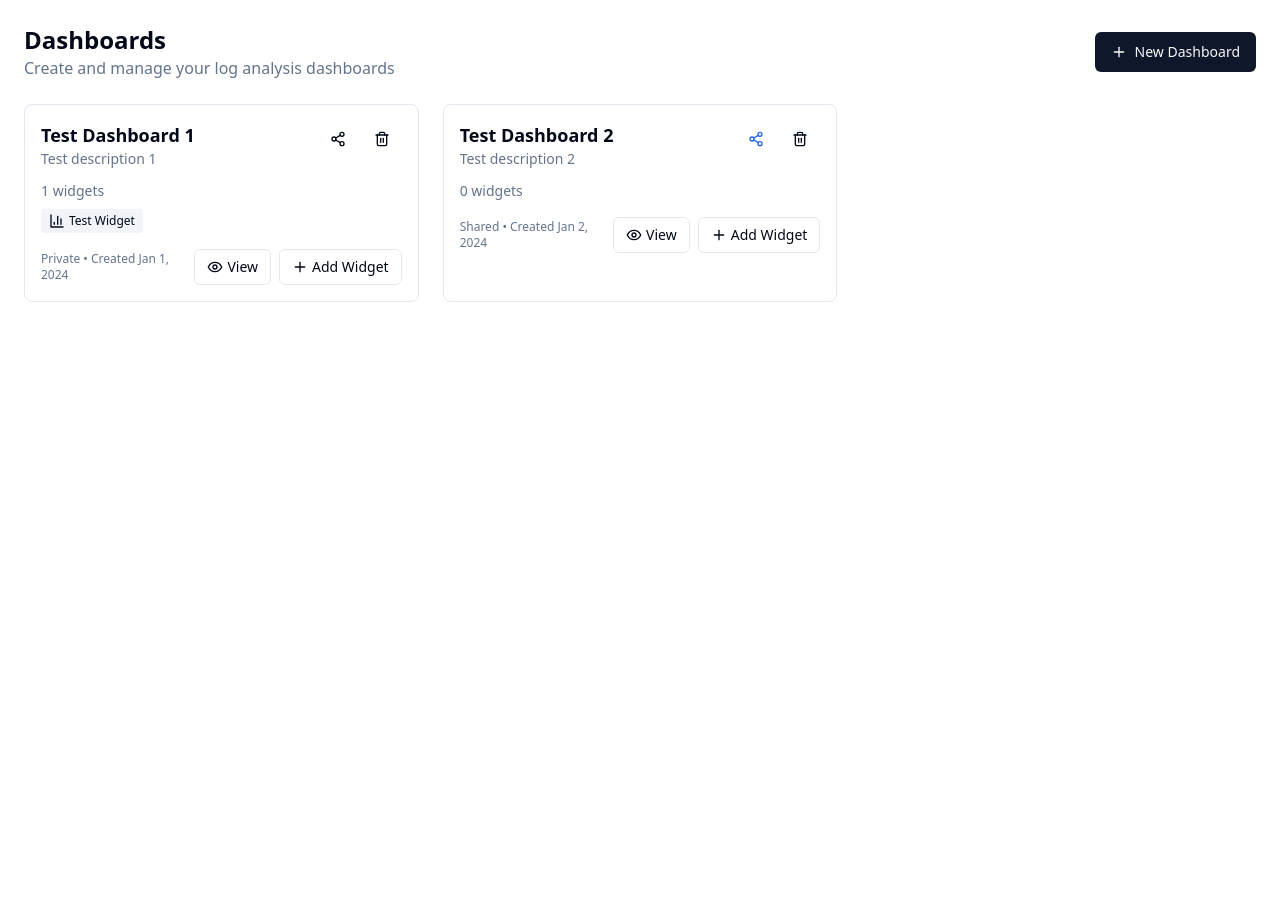
Test: DashboardsPage › opens create dashboard modal when New Dashboard button is clicked
Step 1. Click the button "New Dashboard" → (1175, 52), box [1095,32,1256,72]
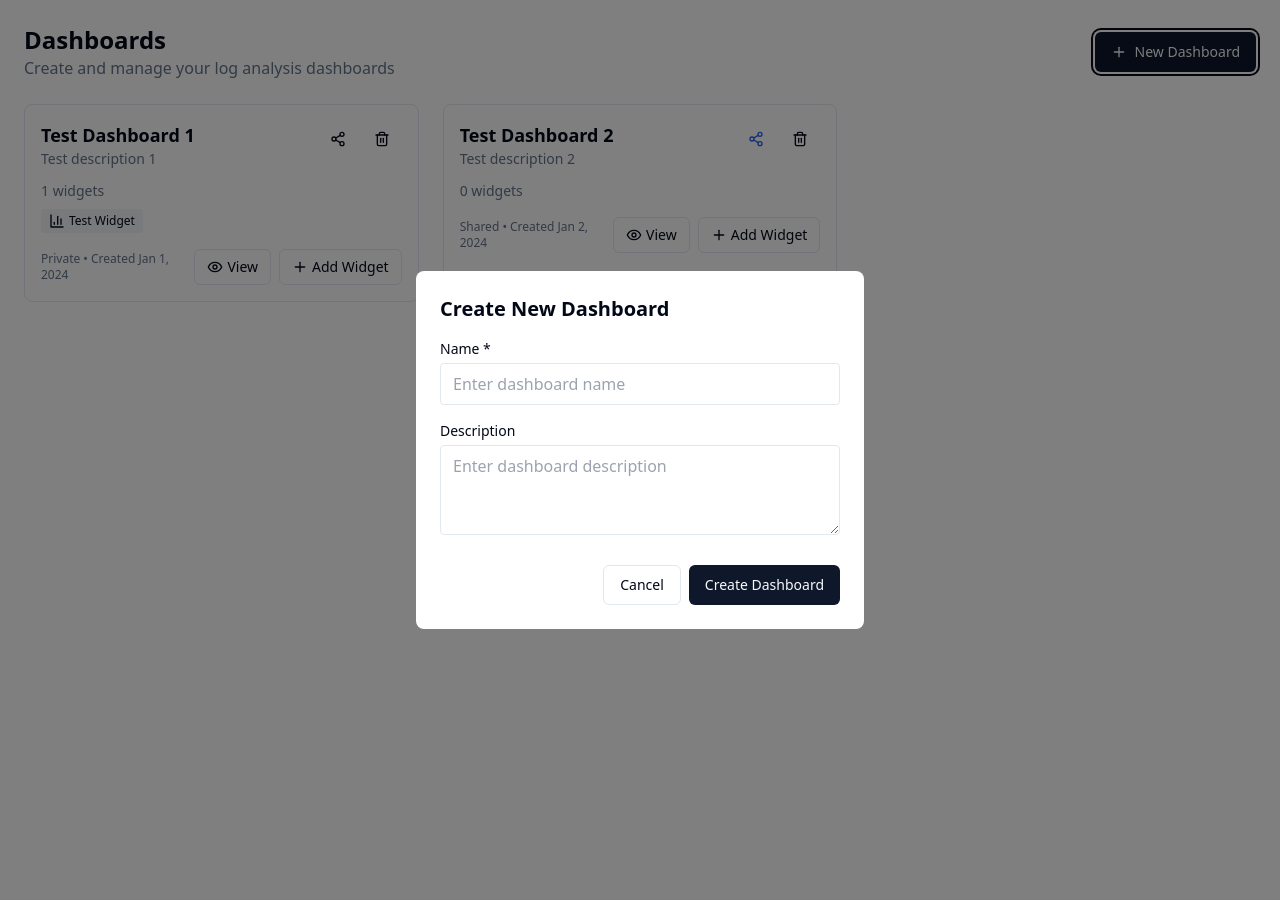
expect the heading "Create New Dashboard" is shown: met, box [440,295,670,322]
expect the field with placeholder "Enter dashboard name" is shown: met, box [440,363,840,405]
expect the text box with placeholder "Enter dashboard description" is shown: met, box [440,445,840,535]
